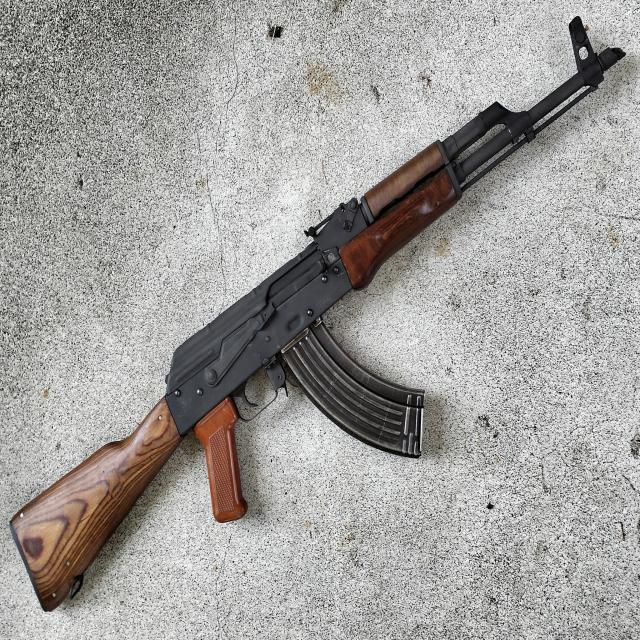ak: (4, 13, 640, 610)
